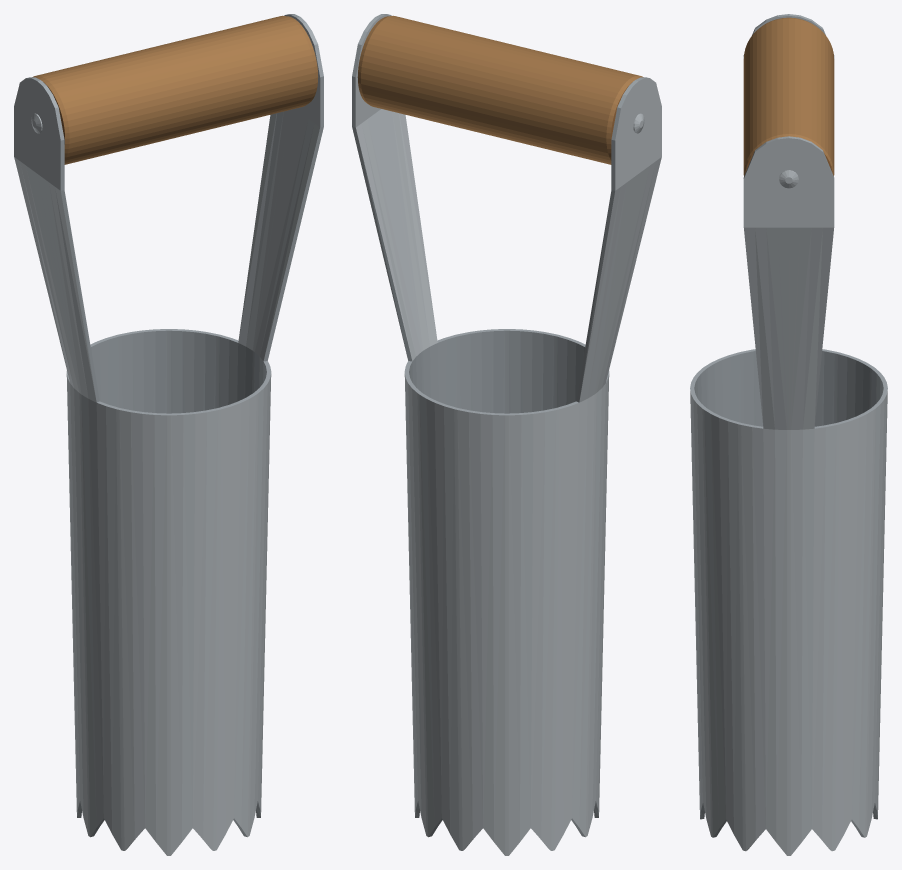
3 views of the same model, side by side, from view 1: azimuth 30°, elevation 25°; view 2: azimuth 150°, elevation 25°; view 3: azimuth 270°, elevation 25° (orthographic). The views are drawn at different scales.
Parts seen in each view (by area): view 1: Continuous_hollow_serrated_cutter_and_two_flat_uprights, Transverse_hardwood_grip_seated_between_flat_arms; view 2: Continuous_hollow_serrated_cutter_and_two_flat_uprights, Transverse_hardwood_grip_seated_between_flat_arms; view 3: Continuous_hollow_serrated_cutter_and_two_flat_uprights, Transverse_hardwood_grip_seated_between_flat_arms.
Boxes of the visible parts, box(x1,y1,x2,y2) form: Continuous_hollow_serrated_cutter_and_two_flat_uprights: box(14, 14, 323, 855); Transverse_hardwood_grip_seated_between_flat_arms: box(32, 15, 318, 164); Continuous_hollow_serrated_cutter_and_two_flat_uprights: box(352, 14, 661, 855); Transverse_hardwood_grip_seated_between_flat_arms: box(357, 15, 643, 164); Continuous_hollow_serrated_cutter_and_two_flat_uprights: box(690, 14, 887, 855); Transverse_hardwood_grip_seated_between_flat_arms: box(743, 17, 834, 175).
Bounding box in the file's own units: 0.1064 × 0.29 × 0.07.
